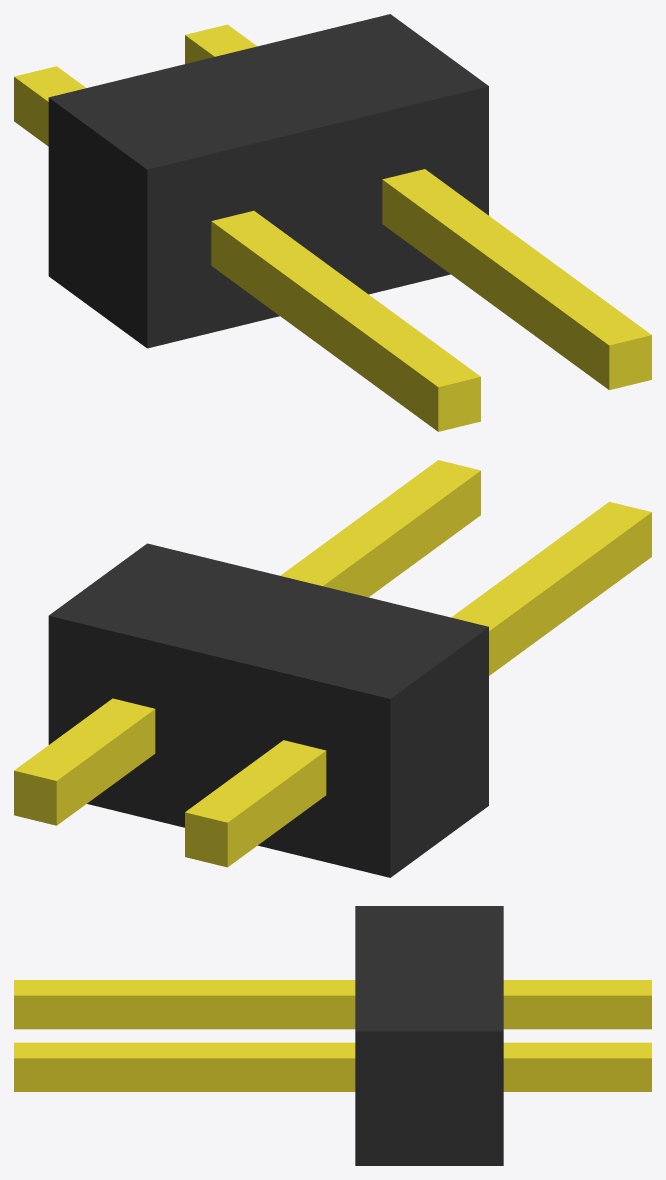
The picture shows the model from 3 angles, top to bottom: view 1: azimuth 30°, elevation 25°; view 2: azimuth 150°, elevation 25°; view 3: azimuth 270°, elevation 25°; orthographic projection. The views are drawn at different scales.
Parts seen in each view (by area): view 1: SamtecTSWbody (×2), SamtecTSWpin (×2); view 2: SamtecTSWbody (×2), SamtecTSWpin (×2); view 3: SamtecTSWpin (×2), SamtecTSWbody (×2).
Part boxes in pixels (left/top/right/bottom): SamtecTSWbody (×2): left=48, top=14, right=488, bottom=348; SamtecTSWpin (×2): left=14, top=24, right=651, bottom=431; SamtecTSWbody (×2): left=48, top=543, right=488, bottom=877; SamtecTSWpin (×2): left=14, top=460, right=651, bottom=867; SamtecTSWpin (×2): left=14, top=980, right=651, bottom=1091; SamtecTSWbody (×2): left=355, top=906, right=503, bottom=1165.
Bounding box in the file's own units: 5.08 × 2.54 × 10.92.
